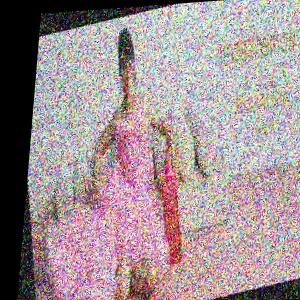women_secret: (151, 3, 300, 36)
